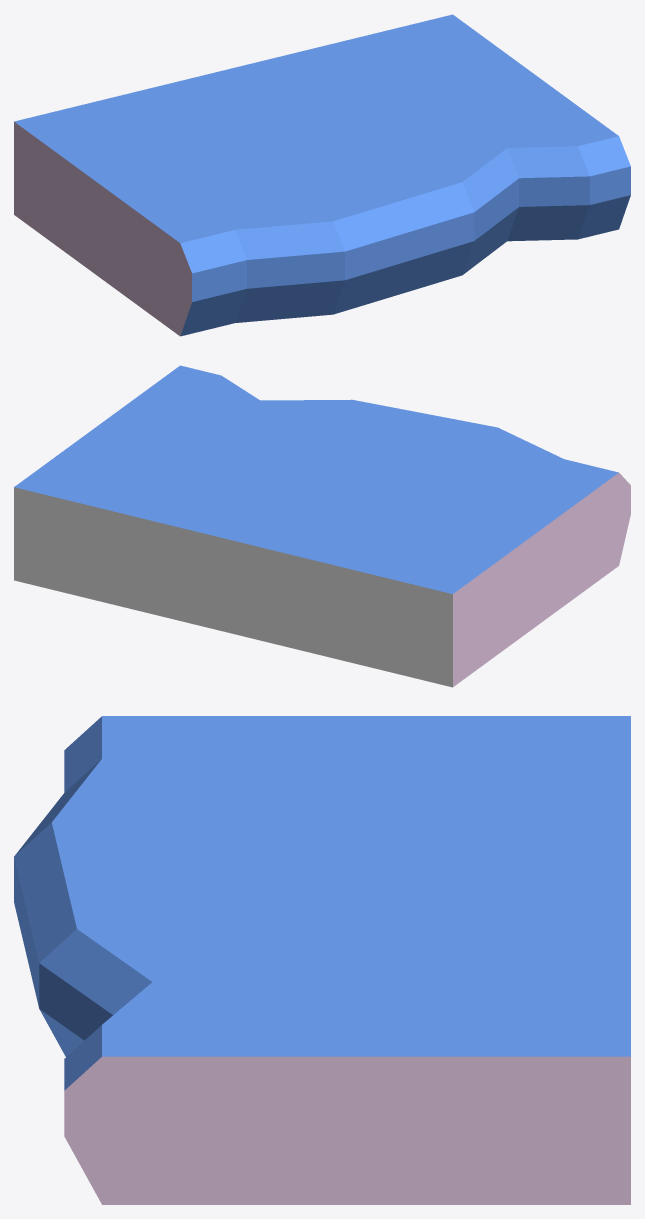
File: Iceberg_Straight_2x2_1.glb
3 renders of one model, top to bottom at view 1: azimuth 30°, elevation 25°; view 2: azimuth 150°, elevation 25°; view 3: azimuth 270°, elevation 25°, orthographic. The views are drawn at different scales.
Visible parts, largest first — view 1: Iceberg_Straight_2x2_1; view 2: Iceberg_Straight_2x2_1; view 3: Iceberg_Straight_2x2_1.
Boxes of the visible parts, x1=… form: Iceberg_Straight_2x2_1: x1=14, y1=14, x2=630, y2=336; Iceberg_Straight_2x2_1: x1=14, y1=365, x2=630, y2=687; Iceberg_Straight_2x2_1: x1=14, y1=716, x2=630, y2=1204.
Bounding box in the file's own units: 200 × 40.63 × 153.
